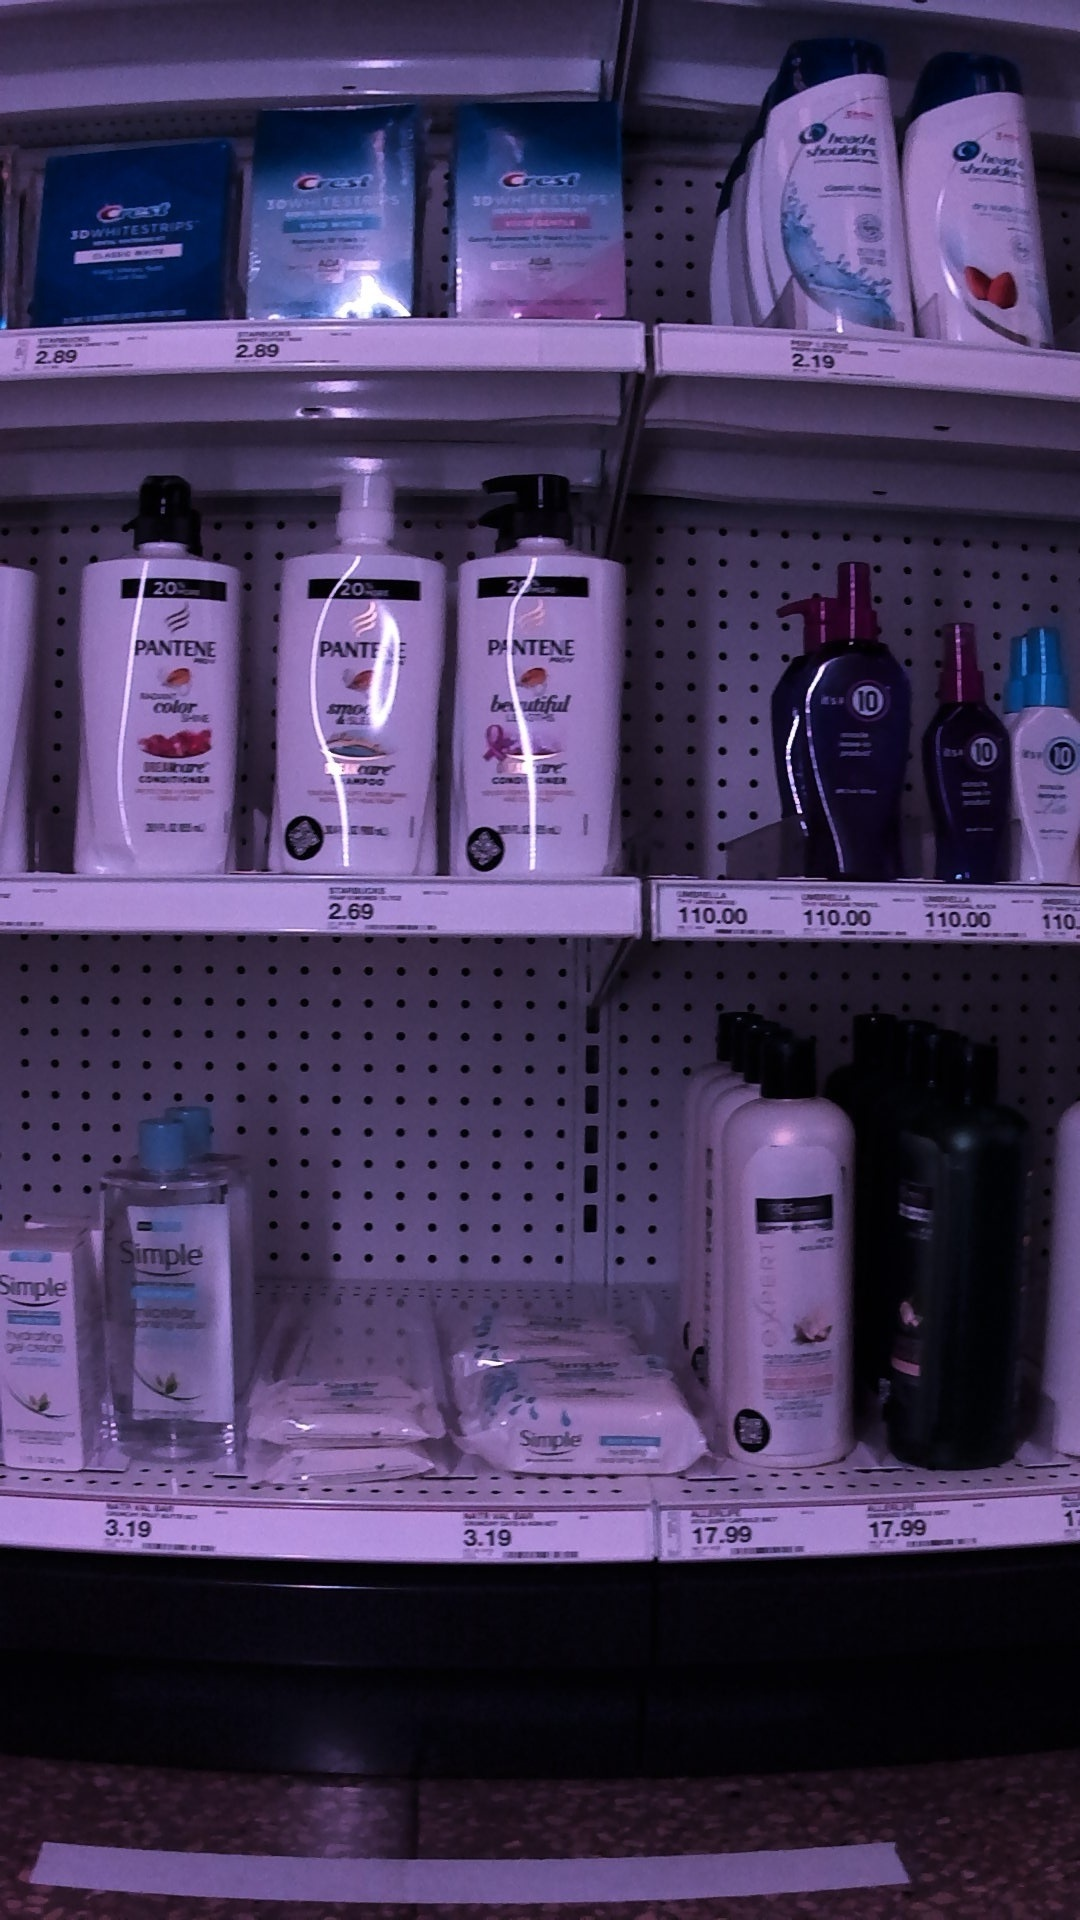ptag: (659, 1497, 811, 1567), (315, 877, 458, 942), (100, 1491, 224, 1564), (858, 1495, 993, 1560), (462, 1502, 595, 1567), (785, 331, 911, 392), (653, 880, 775, 940), (26, 324, 140, 382), (924, 884, 1033, 944), (224, 322, 351, 369), (793, 882, 898, 938)
